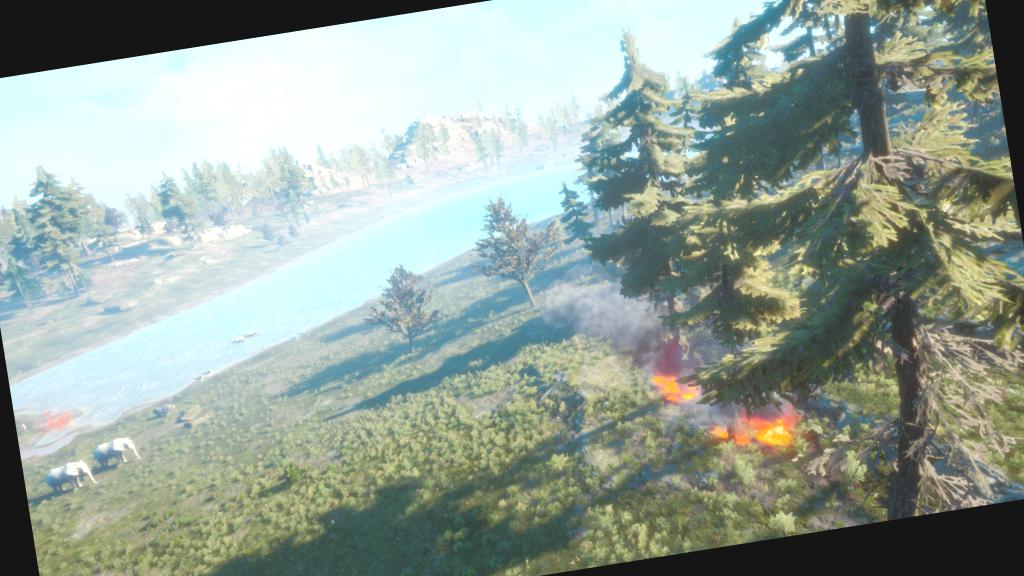Fire: (698, 400, 823, 475), (640, 344, 715, 421), (32, 404, 84, 442)
elephant: (82, 430, 148, 480), (36, 457, 95, 502)
hippopotamus: (148, 400, 180, 423)
rhinoceros: (226, 332, 246, 348), (242, 326, 261, 341)
